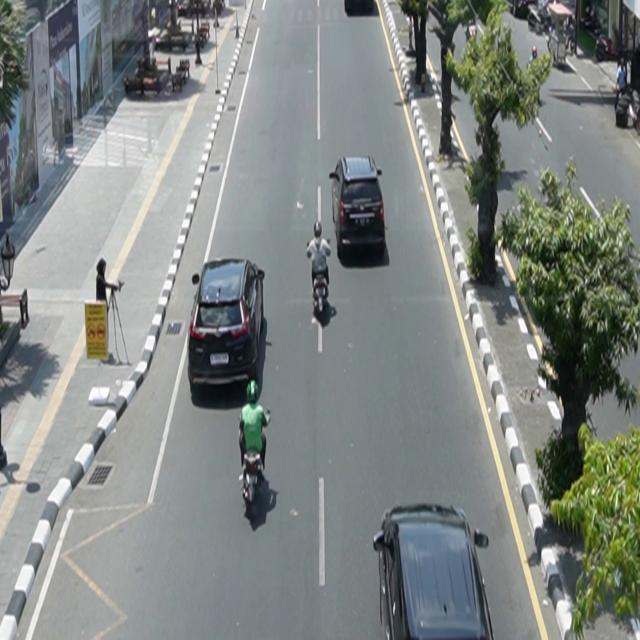car: (374, 504, 495, 640), (188, 258, 266, 393), (330, 156, 387, 258)
